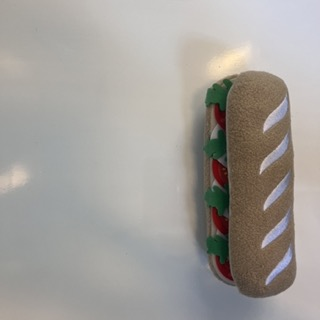sandwich: (203, 70, 296, 299)
